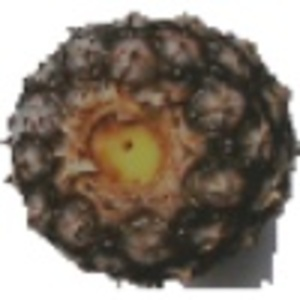abacaxi: (7, 10, 294, 282)
